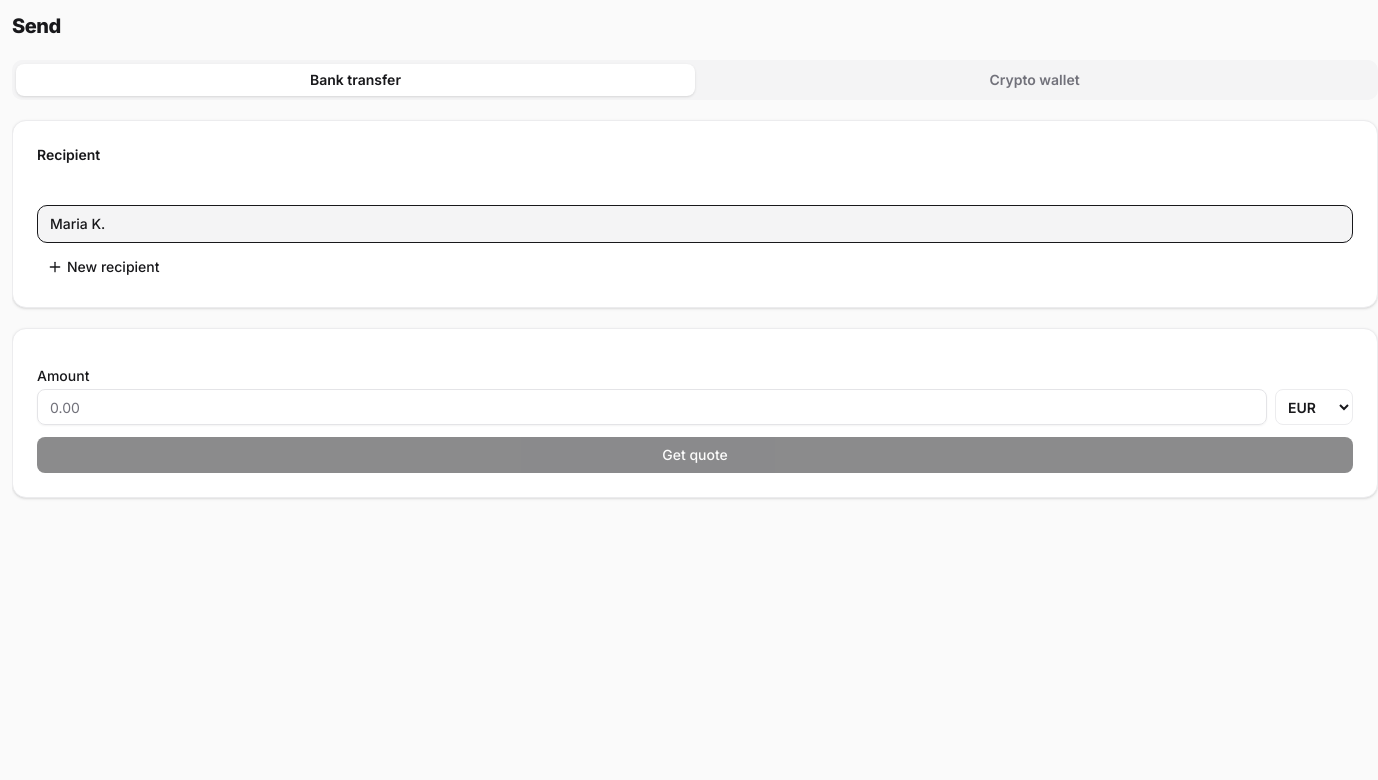
Test: Send › bank flow: pick recipient → quote → confirm → success
# seeded recipient appears
Click the button "Maria K.": click(78, 224) [37,205,1353,243]
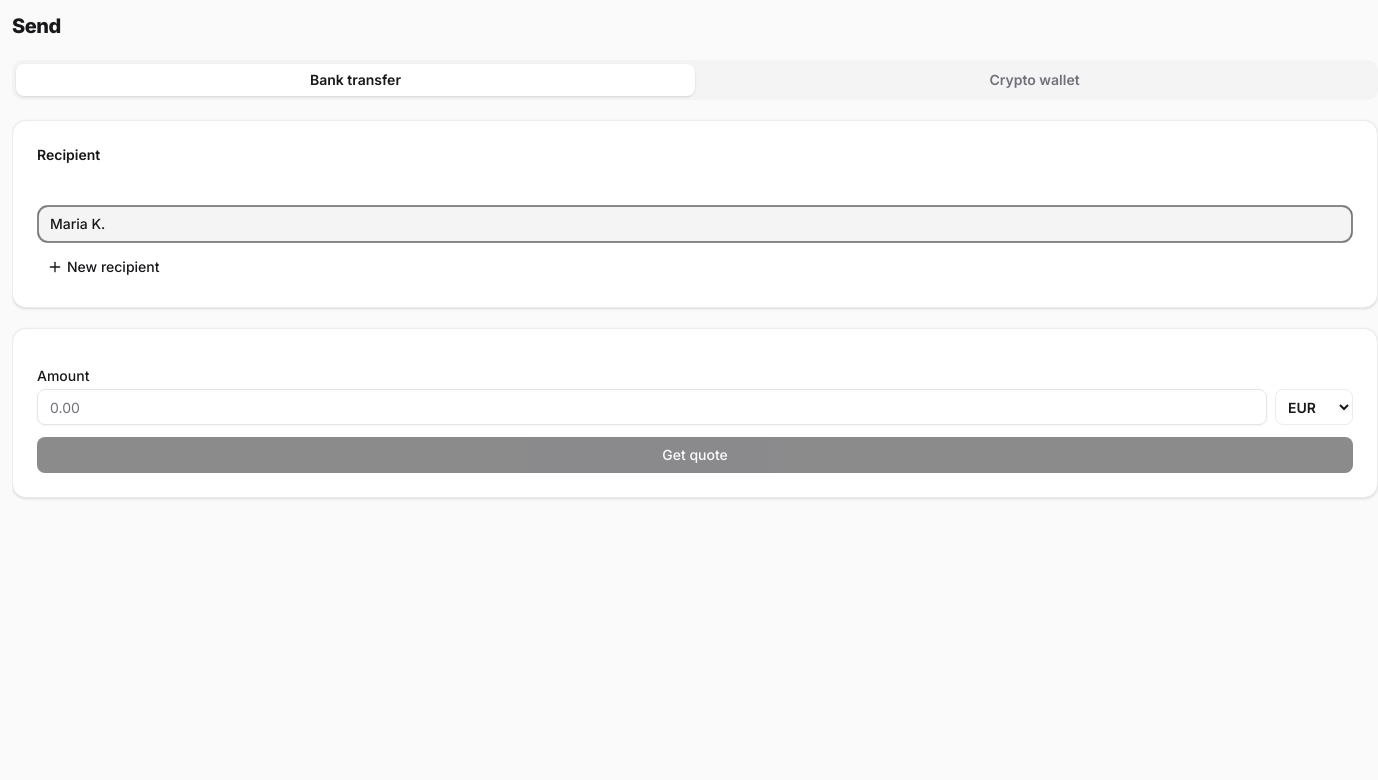
In the field labelled "Amount": (652, 407) [37,389,1267,425], type "50"
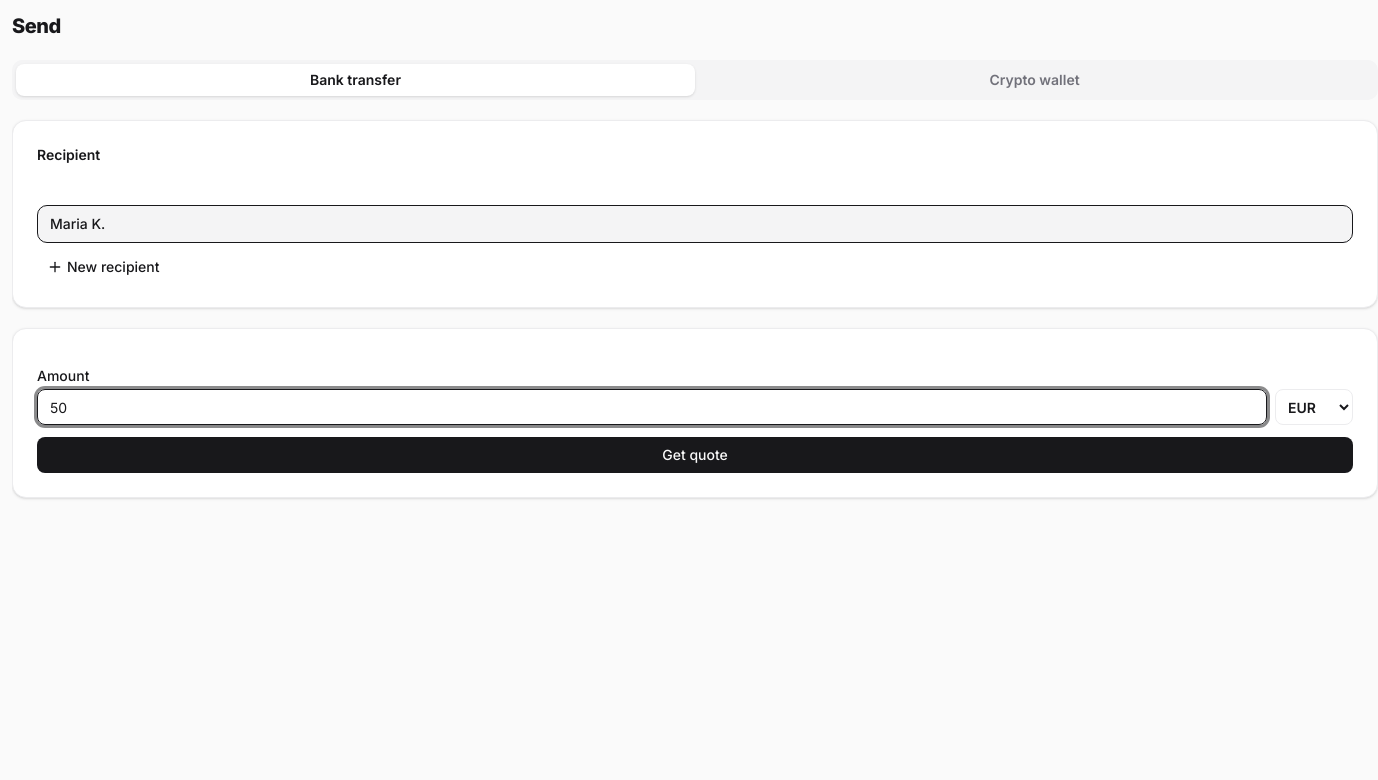
Click the button "Get quote": click(695, 455) [37,437,1353,473]
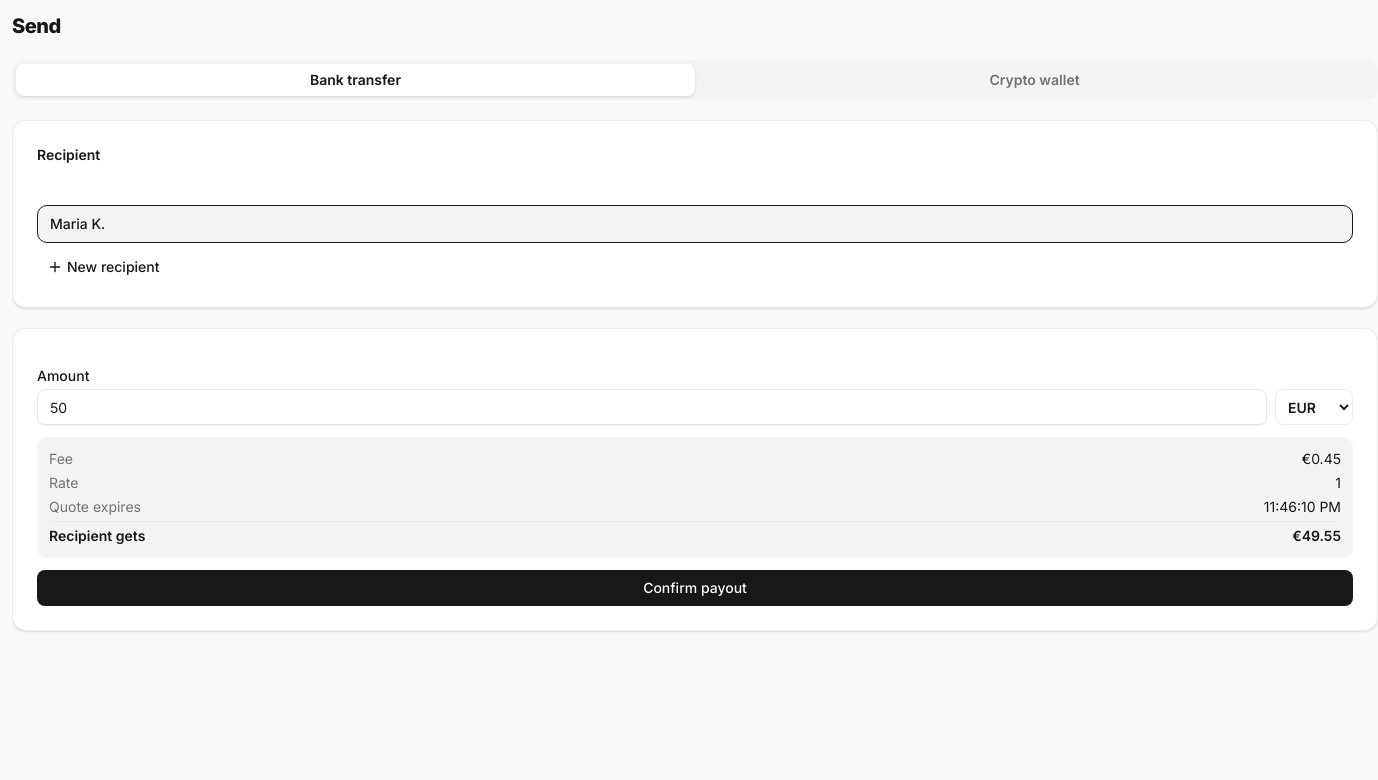
Expected: the text "Recipient gets" is shown, [49,526,145,546]
Expected: the text "Quote expires" is shown, [49,497,141,517]
Click the button "Confirm payout": click(695, 588) [37,570,1353,606]
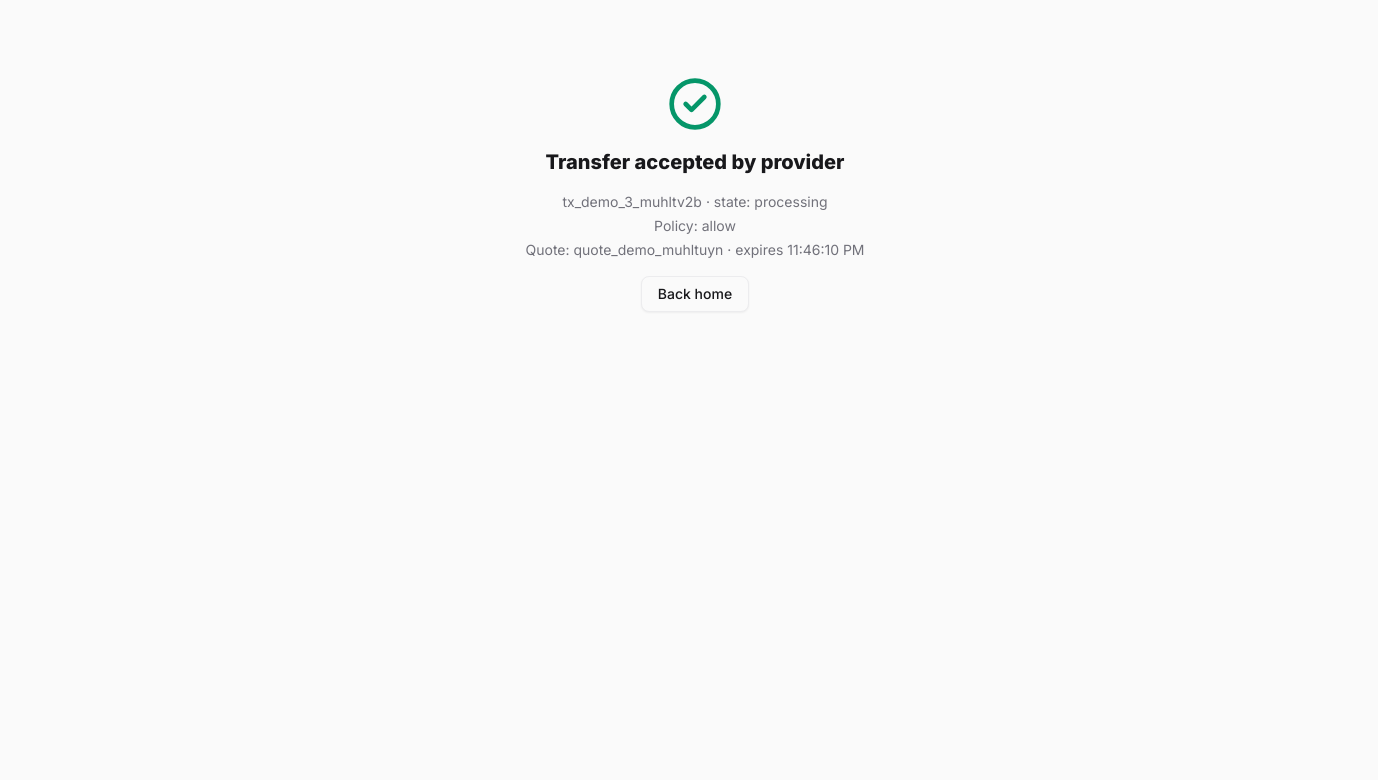
Expected: the heading "Transfer accepted by provider" is shown, [546,148,844,176]
Expected: the text "Policy: allow" is shown, [654,217,736,234]
